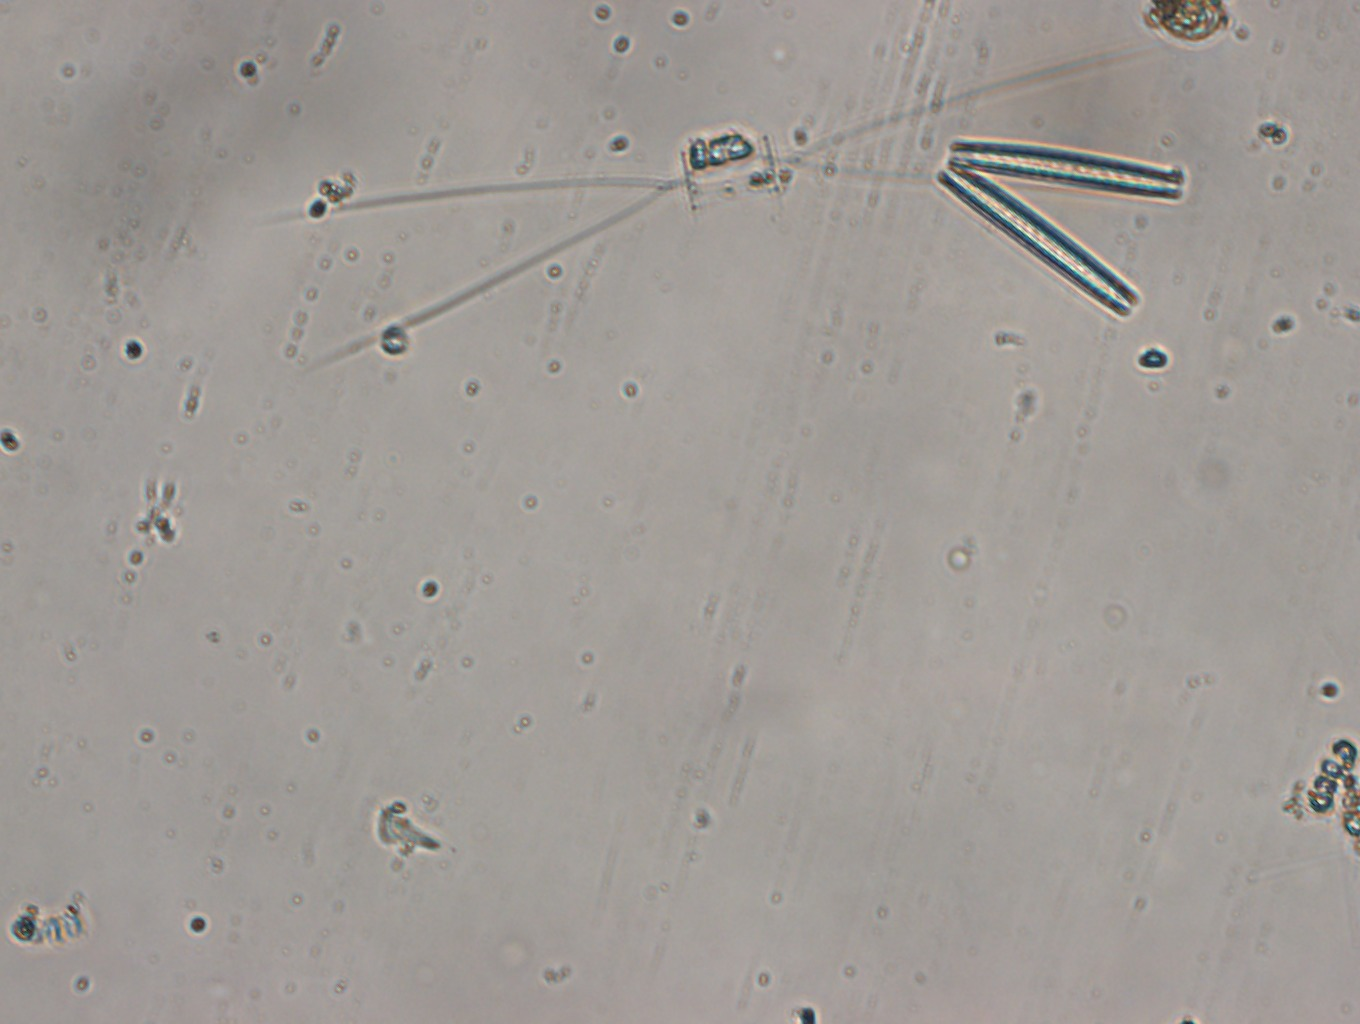chaetoceros: (248, 31, 1162, 372)
thalassionema nitzschioides: (927, 128, 1191, 325)
